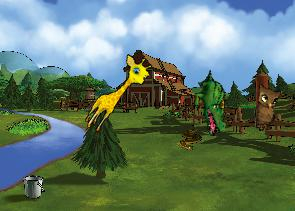crocodile: (181, 69, 242, 138)
giraffe: (80, 49, 156, 140)
owl: (253, 83, 284, 131)
